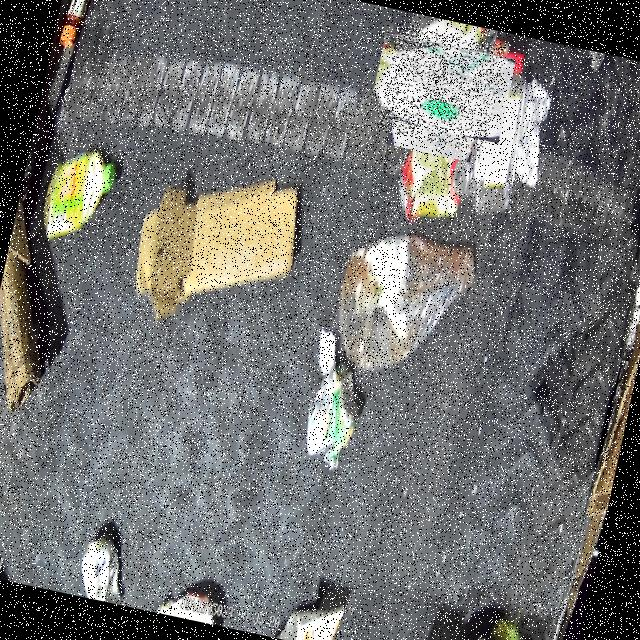milk-jug: (376, 22, 506, 152)
